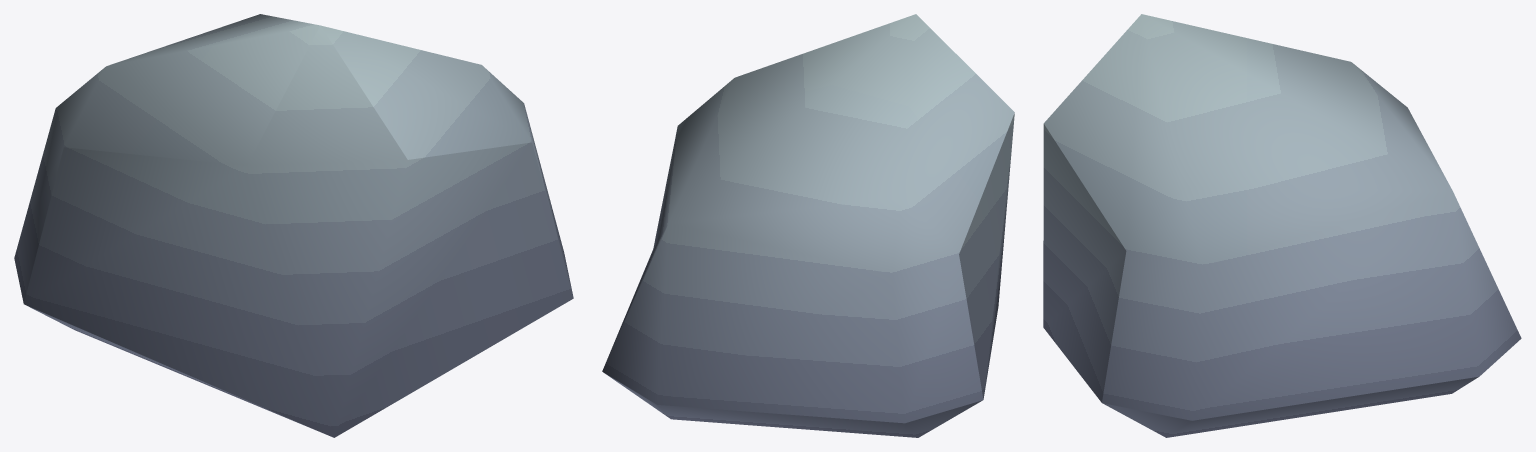
The model's file is rock1.fbx.
The picture shows the model from 3 angles, left to right: view 1: azimuth 30°, elevation 25°; view 2: azimuth 150°, elevation 25°; view 3: azimuth 270°, elevation 25°; orthographic projection. The views are drawn at different scales.
Visible parts, largest first — view 1: rock1; view 2: rock1; view 3: rock1.
Boxes of the visible parts, bbox=[...] form: rock1: bbox=[14, 14, 573, 437]; rock1: bbox=[602, 14, 1014, 437]; rock1: bbox=[1043, 14, 1521, 437].
Size of the model in its own units: 174 by 132 by 172.
